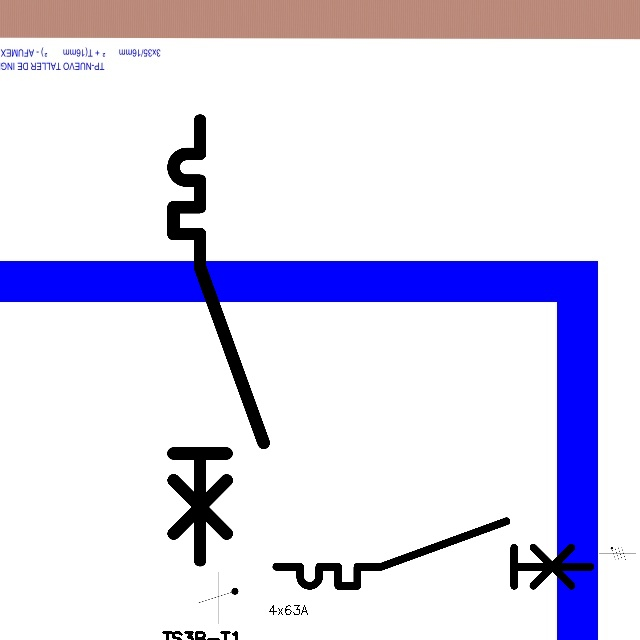interruptor_termomagnetico: (162, 109, 275, 572), (268, 513, 599, 594)
